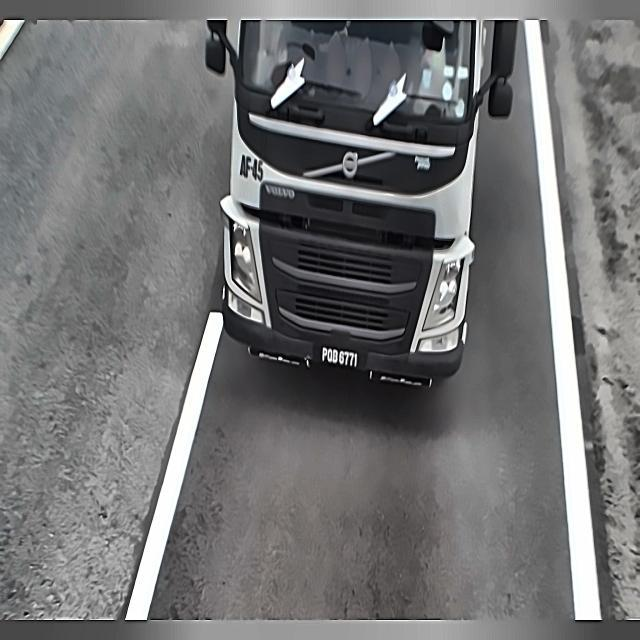car: (308, 339, 368, 376)
